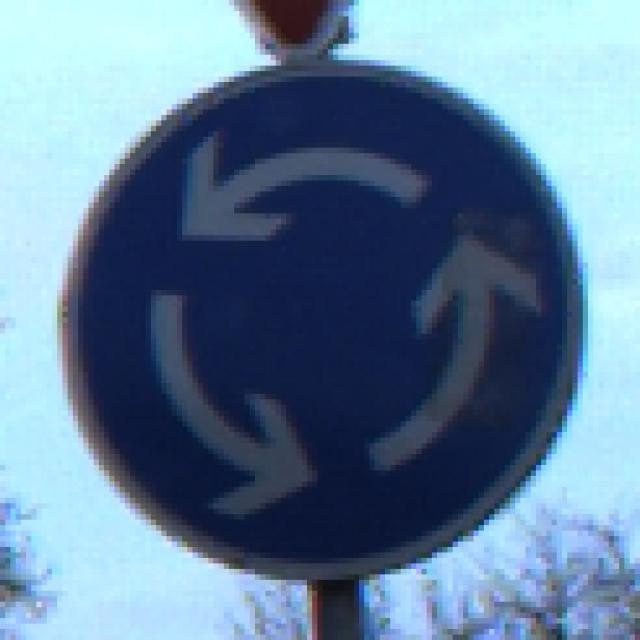roundabout: (64, 65, 579, 583)
